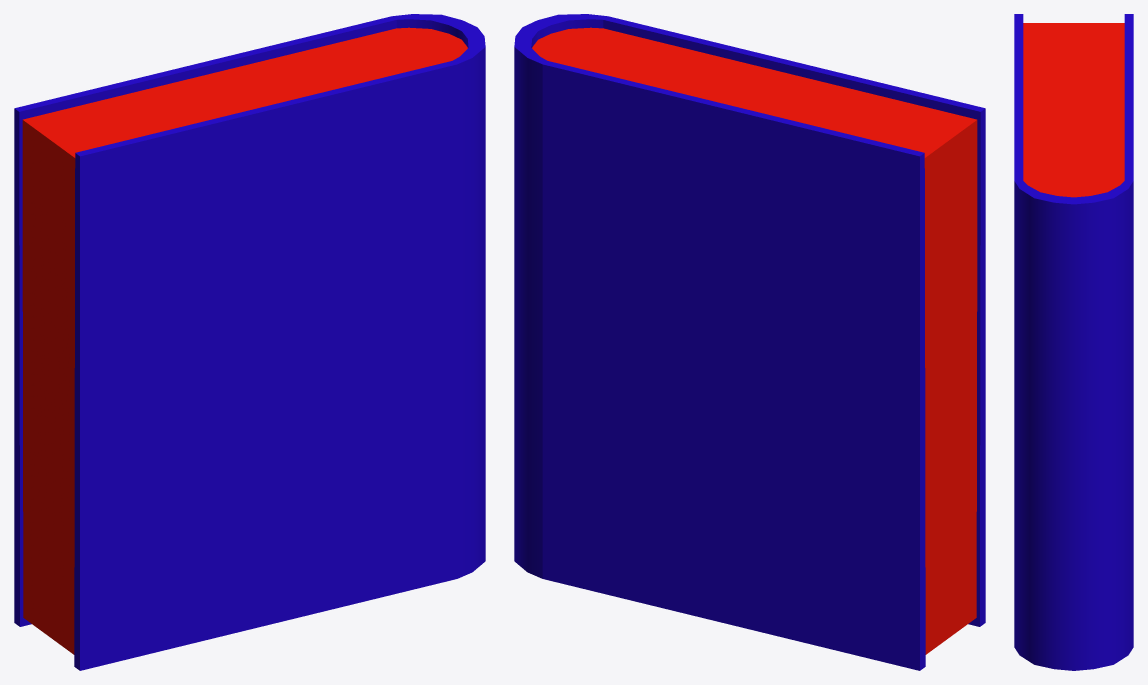
The model's file is Book.fbx.
3 views of the same model, side by side, from view 1: azimuth 30°, elevation 25°; view 2: azimuth 150°, elevation 25°; view 3: azimuth 270°, elevation 25° (orthographic). The views are drawn at different scales.
Visible parts, largest first — view 1: Cube.052; view 2: Cube.052; view 3: Cube.052.
Boxes of the visible parts, x1,y1,x2,y2 form: Cube.052: (14, 14, 485, 670); Cube.052: (514, 14, 985, 670); Cube.052: (1014, 14, 1133, 670).
Bounding box in the file's own units: 217 × 248 × 57.36.
